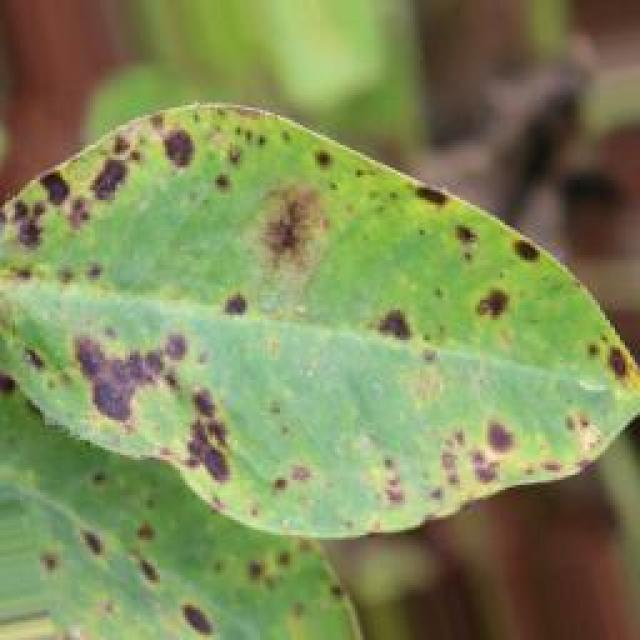Yellowish: (0, 114, 626, 640)
